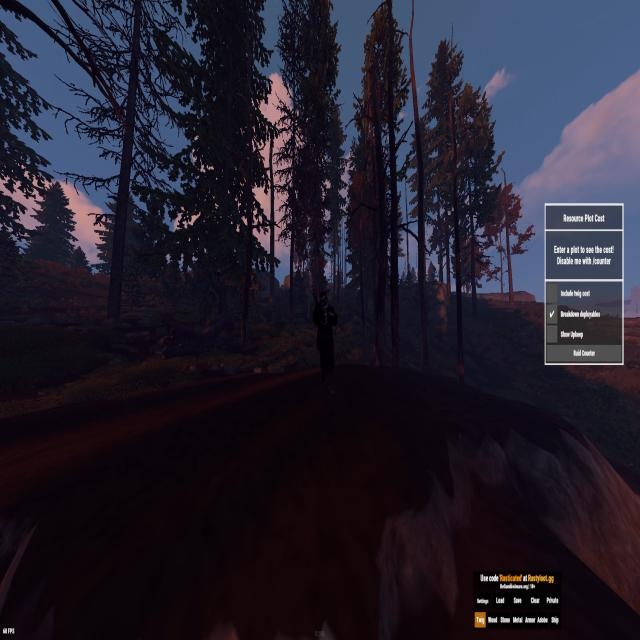Player: (310, 286, 340, 388)
